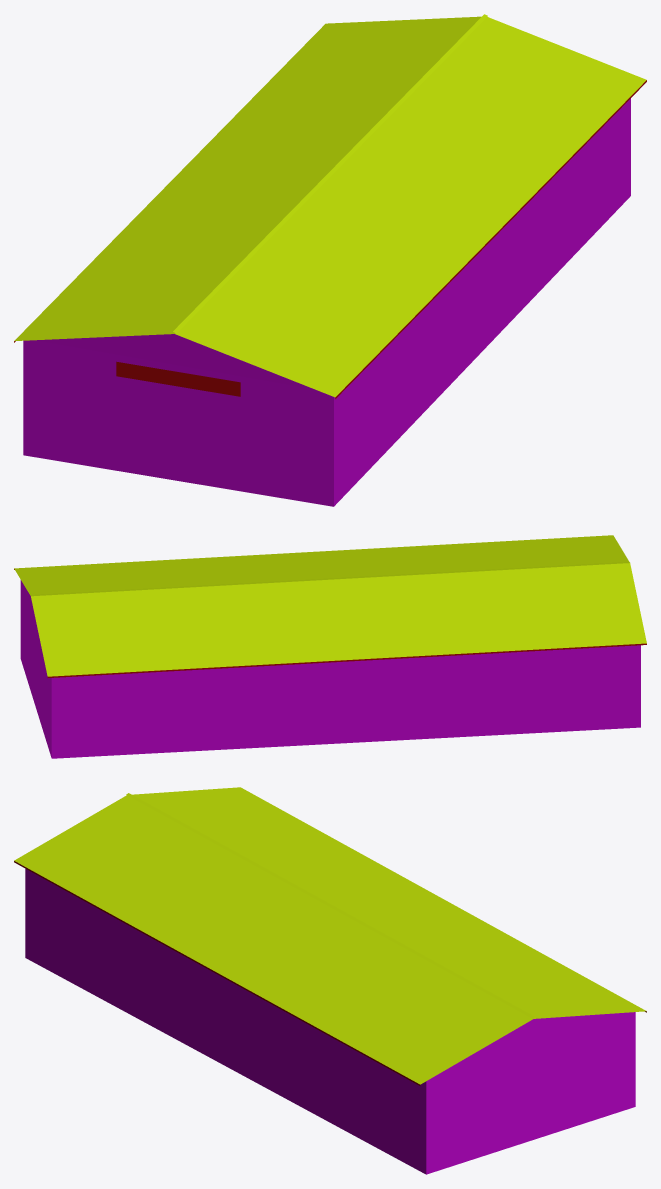
The model's file is bgj_208.glb.
3 renders of one model, top to bottom at view 1: azimuth 30°, elevation 25°; view 2: azimuth 150°, elevation 25°; view 3: azimuth 270°, elevation 25°, orthographic. The views are drawn at different scales.
Parts seen in each view (by area): view 1: bgj_208; view 2: bgj_208; view 3: bgj_208.
Boxes of the visible parts, left/top/right/bottom form: bgj_208: left=14, top=14, right=646, bottom=506; bgj_208: left=14, top=535, right=646, bottom=758; bgj_208: left=14, top=787, right=646, bottom=1174.
Bounding box in the file's own units: 48.14 × 9.48 × 43.3.
